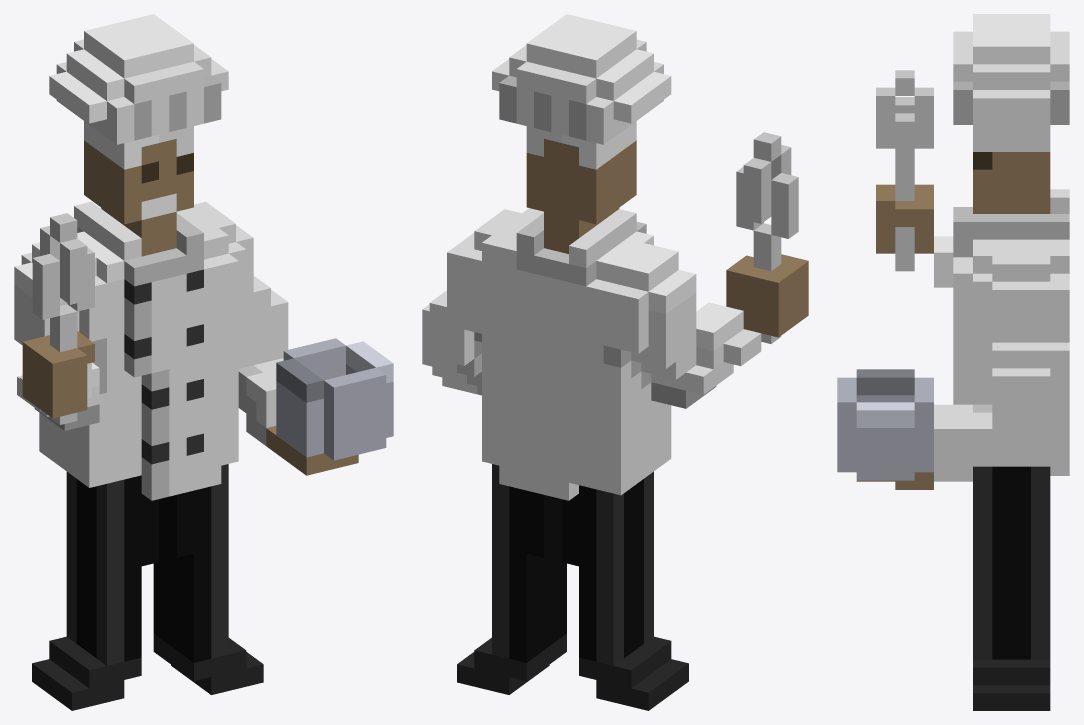
Rendered from chef.glb.
3 views of the same model, side by side, from view 1: azimuth 30°, elevation 25°; view 2: azimuth 150°, elevation 25°; view 3: azimuth 270°, elevation 25° (orthographic). The views are drawn at different scales.
Visible parts, largest first — view 1: 04-chef; view 2: 04-chef; view 3: 04-chef.
Part boxes in pixels (left/top/right/bottom): 04-chef: left=14, top=14, right=393, bottom=710; 04-chef: left=422, top=14, right=808, bottom=710; 04-chef: left=837, top=14, right=1069, bottom=710.
Bounding box in the file's own units: 1.9 × 3.6 × 1.2.
Materials: 1 (1 with a texture image).
